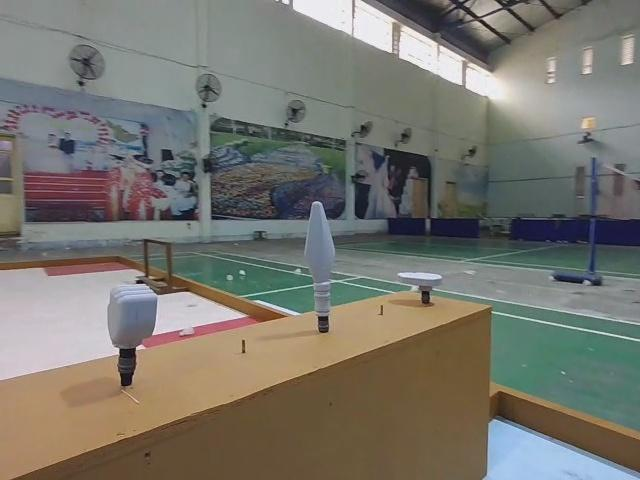Fist: (104, 280, 159, 392)
Hand: (398, 269, 443, 304)
Sph: (306, 201, 341, 336)
